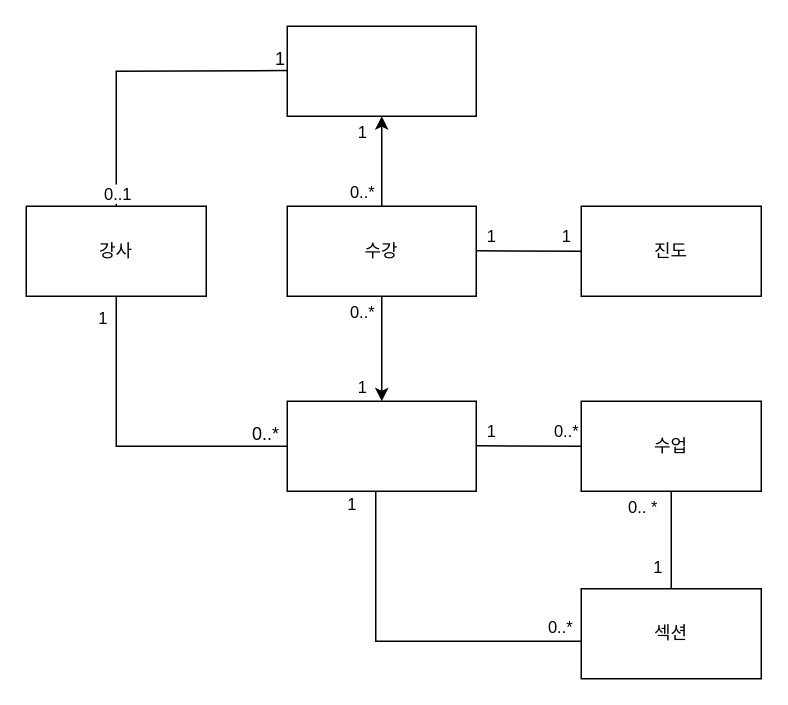
The diagram is 788 pixels wide and 705 high, and some of its shapes have lost their labels. The shapes that lost their labels are listed below. From the top down, each one's box as (x1, y1, x2, y2) in pixels, then its label:
(286, 25, 476, 116): 회원
(286, 400, 476, 491): 강의
